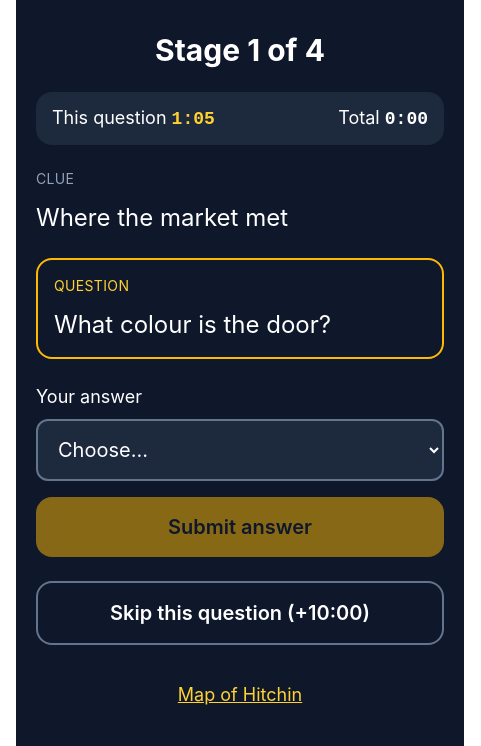
Test: Play › confirms the skip penalty, then moves to the next clue
Click the button "Skip this question (+10:00)": (240, 613) [36,581,444,645]
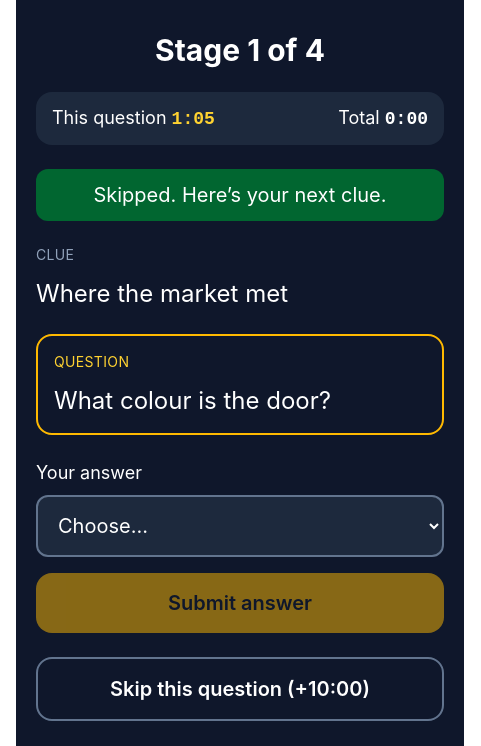
Expected: the message shows "Skipped", [94,183,386,207]
